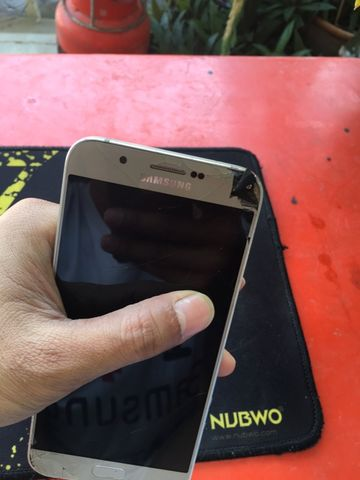phone: (25, 130, 270, 480)
